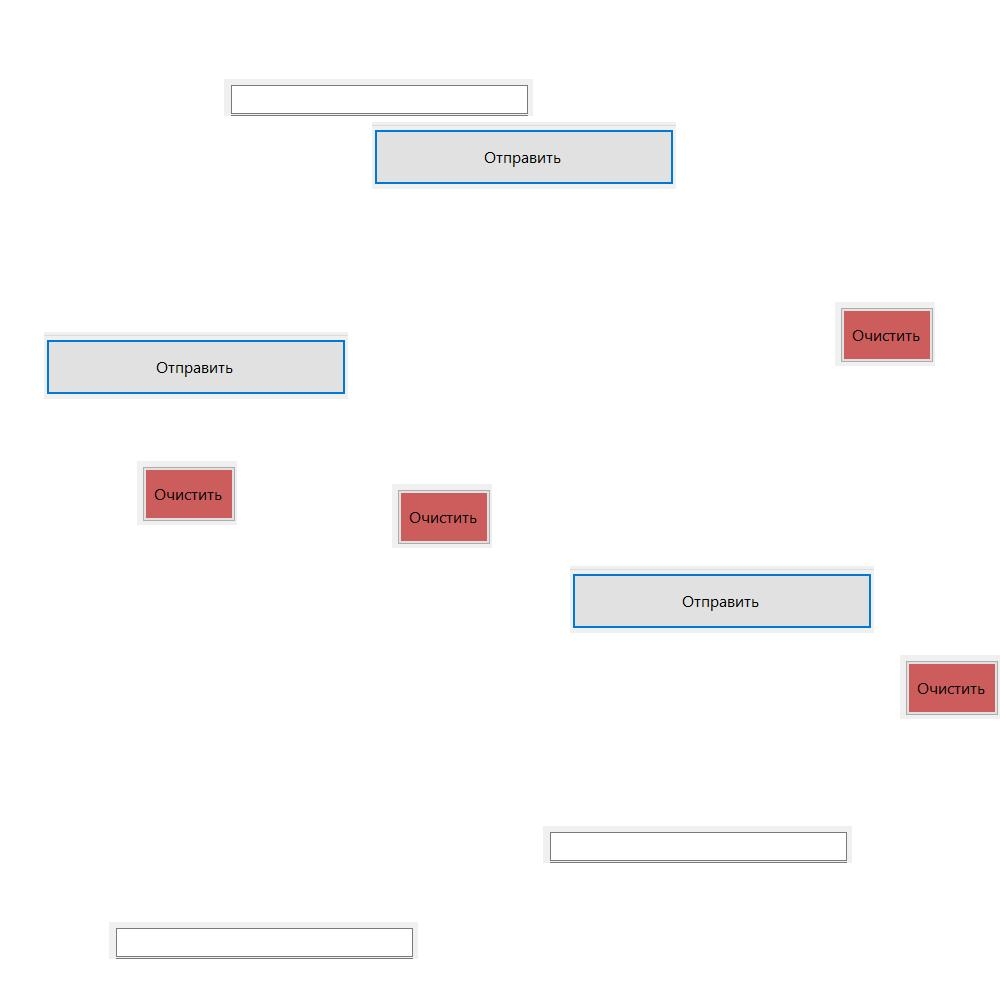Button: (44, 332, 348, 399), (372, 122, 676, 189), (570, 566, 874, 633), (900, 655, 1000, 719), (835, 302, 935, 366), (392, 484, 492, 548), (137, 461, 237, 525)
EditText-: (224, 79, 533, 116), (543, 826, 852, 863), (109, 922, 418, 959)
